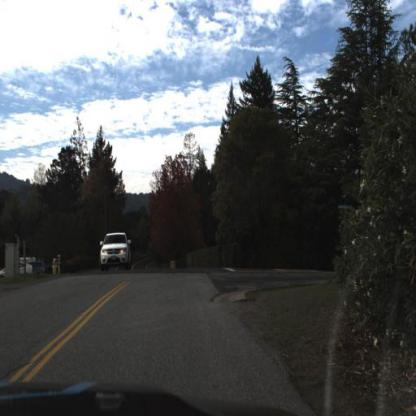car: (94, 224, 136, 275), (0, 246, 46, 288), (96, 227, 133, 273), (0, 258, 34, 277)
